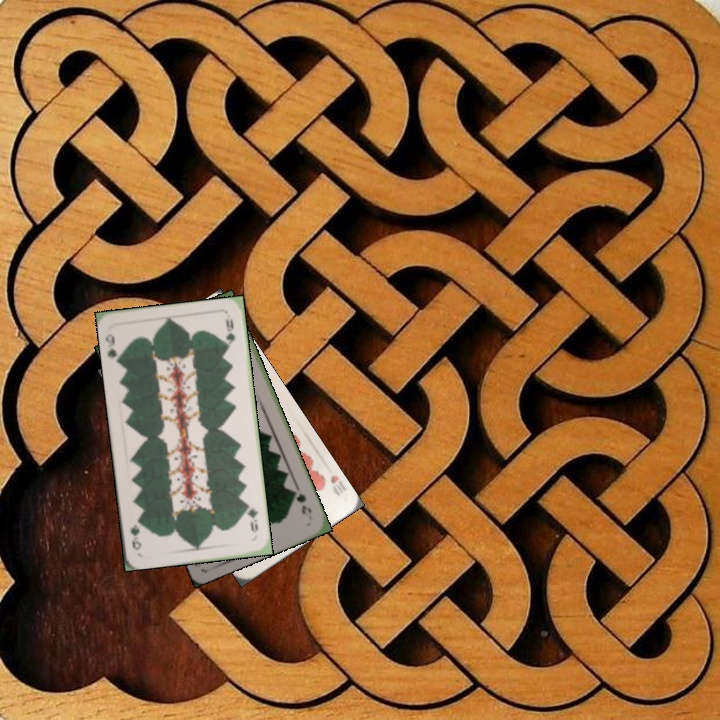G9: (289, 483, 314, 517), (101, 330, 123, 366), (242, 500, 261, 535)
H10: (326, 471, 343, 499)
